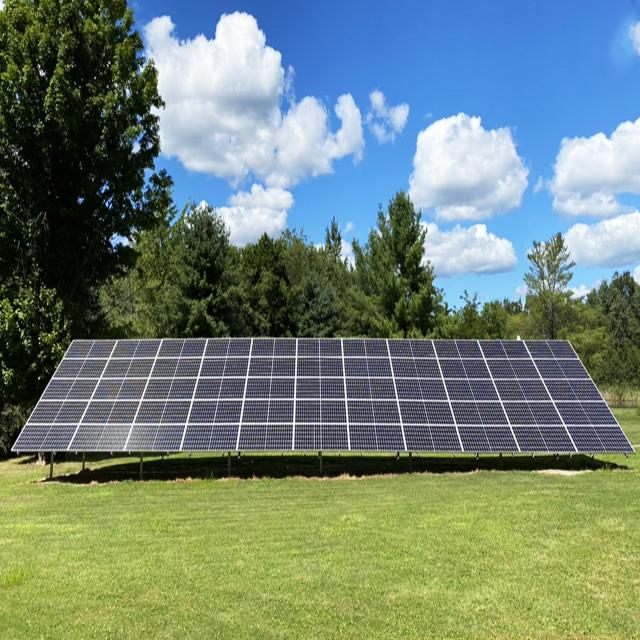clean-solar-panel: (12, 338, 634, 456)
